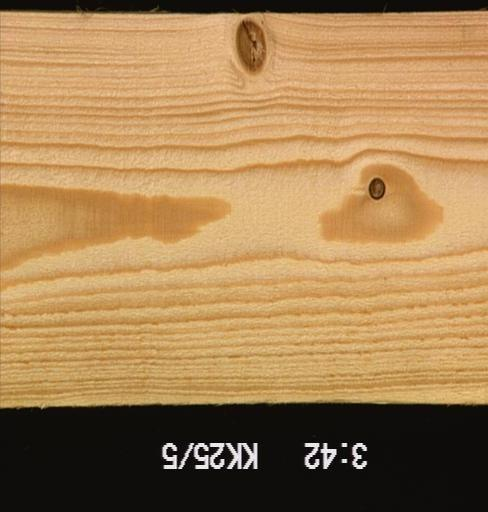dry_knot: (365, 175, 388, 202)
sound_knot: (232, 17, 268, 74)
